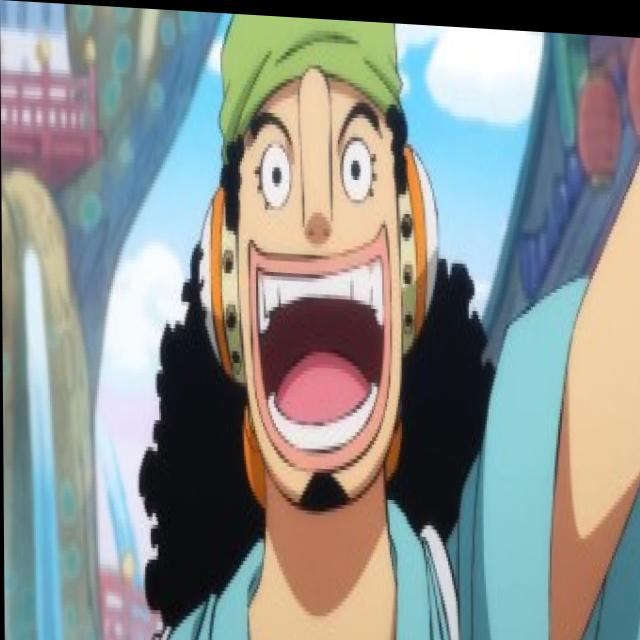Usopp: (175, 8, 452, 531)
